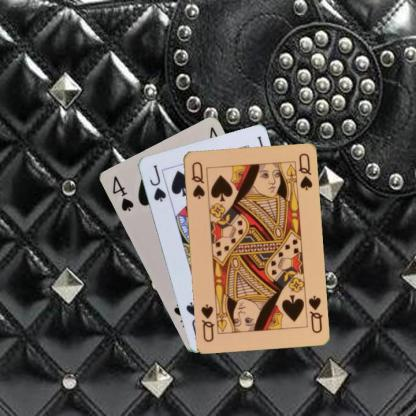4s: (109, 173, 135, 213)
Js: (147, 162, 167, 203)
Qs: (188, 158, 206, 200), (306, 293, 324, 334)
